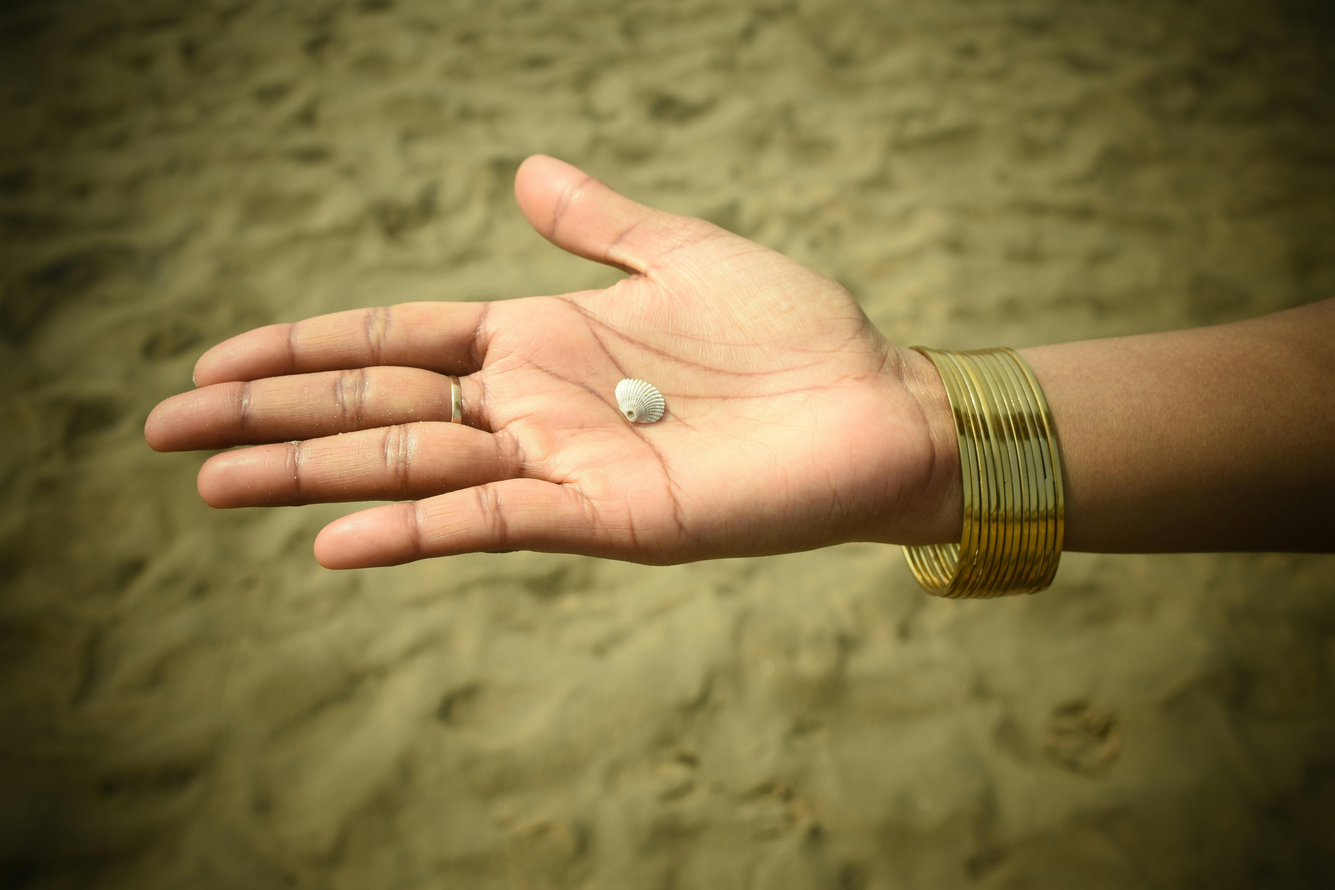family ring: (653, 240, 736, 261)
fate line: (660, 379, 864, 398)
head line: (574, 299, 629, 380), (668, 412, 696, 437)
heart line: (528, 354, 697, 550)
life line: (568, 294, 812, 376)
